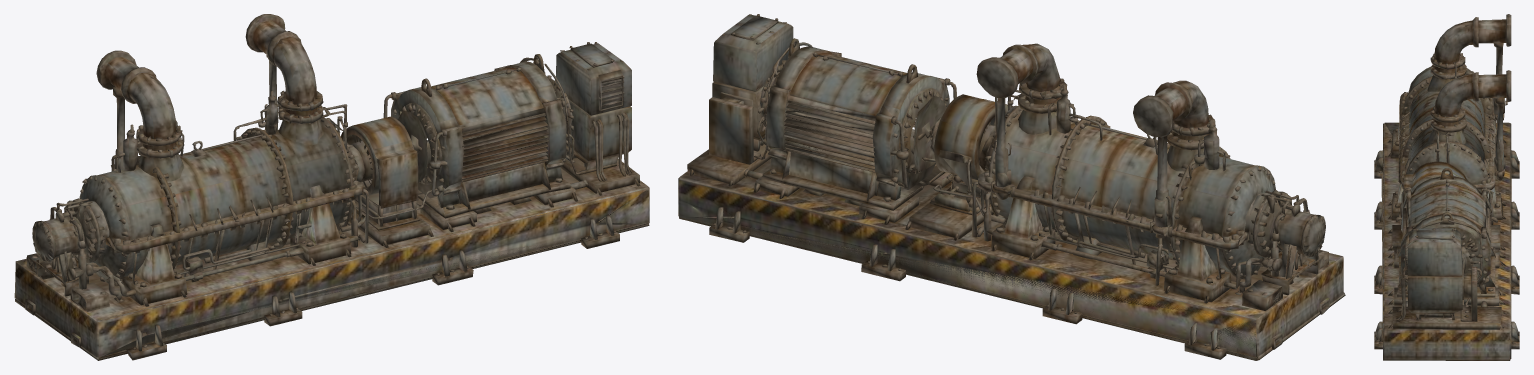
File: reactor-turbine-generator.glb
The picture shows the model from 3 angles, left to right: view 1: azimuth 30°, elevation 25°; view 2: azimuth 150°, elevation 25°; view 3: azimuth 270°, elevation 25°; orthographic projection. The views are drawn at different scales.
Parts seen in each view (by area): view 1: reactor-turbine-generator; view 2: reactor-turbine-generator; view 3: reactor-turbine-generator.
Boxes of the visible parts, x1,y1,x2,y2 form: reactor-turbine-generator: (14, 14, 649, 360); reactor-turbine-generator: (678, 14, 1345, 360); reactor-turbine-generator: (1374, 14, 1519, 360).
Size of the model in its own units: 10 by 3.83 by 2.86.
1 material, 1 textured.
